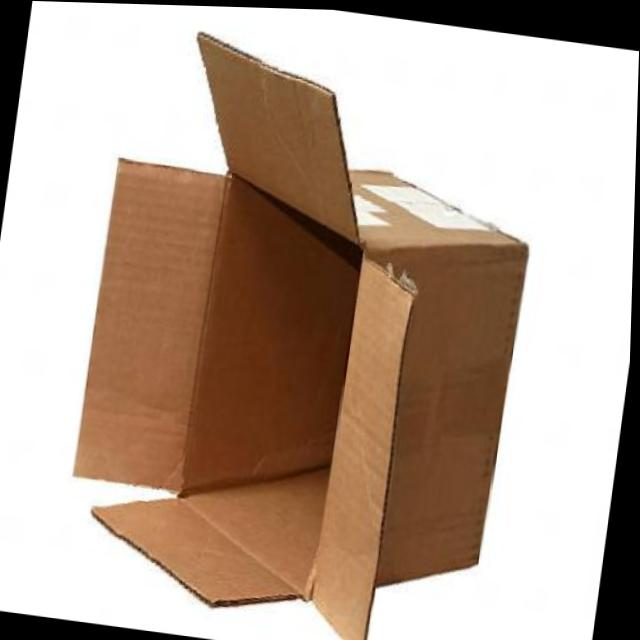box: (29, 12, 599, 640)
